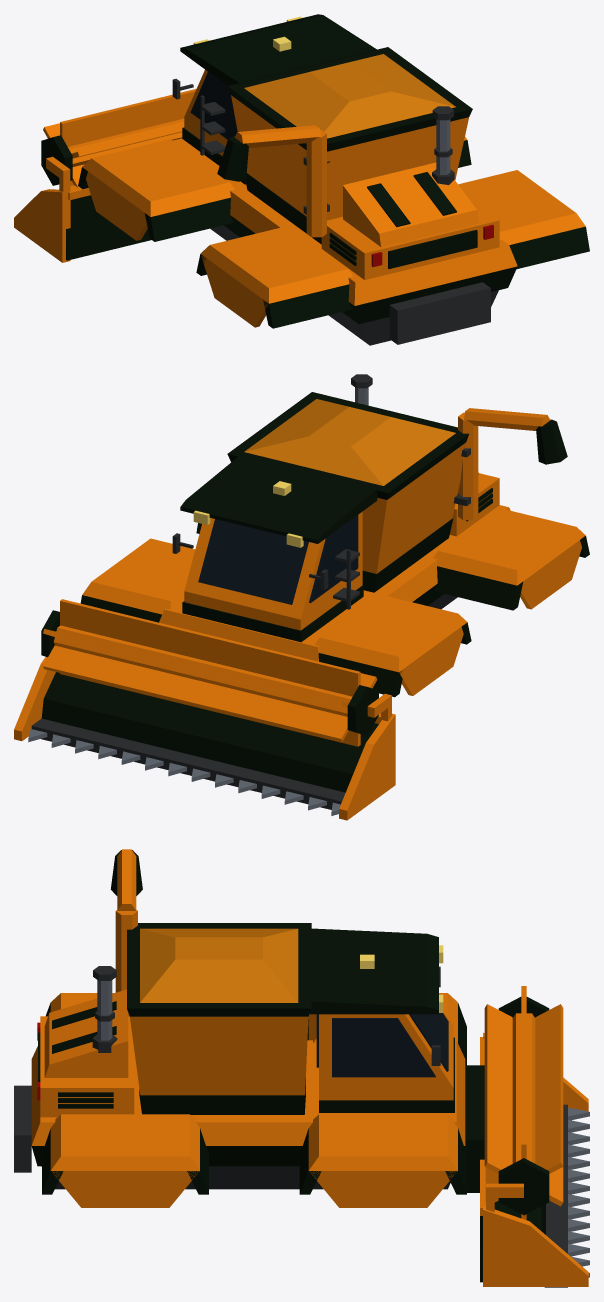
Rendered from Harvester_Body_1.fbx.
3 renders of one model, top to bottom at view 1: azimuth 30°, elevation 25°; view 2: azimuth 150°, elevation 25°; view 3: azimuth 270°, elevation 25°, orthographic. The views are drawn at different scales.
Visible parts, largest first — view 1: Harvester_Body; view 2: Harvester_Body; view 3: Harvester_Body.
Boxes of the visible parts, left/top/right/bottom form: Harvester_Body: left=14, top=14, right=589, bottom=345; Harvester_Body: left=14, top=374, right=589, bottom=820; Harvester_Body: left=14, top=849, right=589, bottom=1287.
Bounding box in the file's own units: 14.52 × 10.17 × 19.65.
